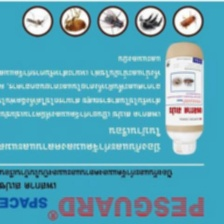insecticide: (163, 39, 207, 157)
